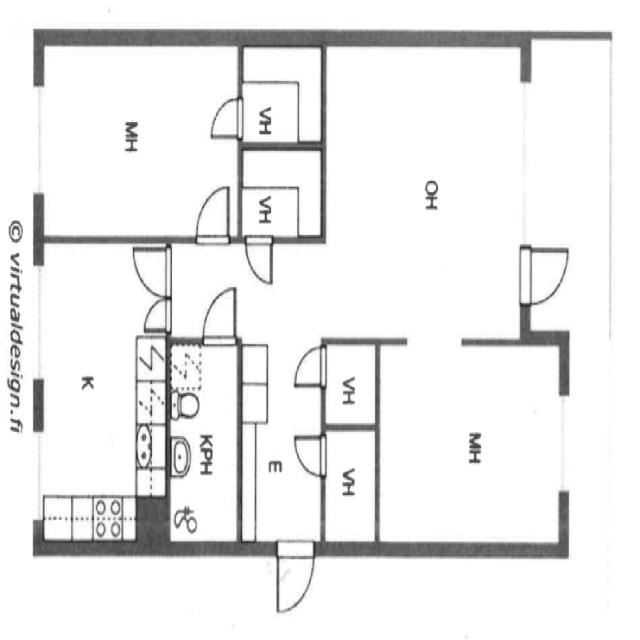door: (515, 240, 576, 314), (270, 537, 317, 622), (192, 180, 234, 254), (198, 280, 242, 350), (129, 238, 174, 302), (290, 428, 330, 487), (138, 274, 175, 336), (288, 341, 330, 394), (242, 232, 277, 292), (206, 92, 245, 142)
window: (515, 66, 540, 255), (23, 256, 49, 391), (25, 75, 51, 205), (551, 382, 577, 505), (26, 424, 48, 532)
zone: (322, 40, 527, 340), (34, 236, 170, 550), (375, 338, 567, 554), (38, 40, 240, 242), (165, 336, 239, 547), (240, 42, 324, 146), (240, 148, 324, 240), (323, 425, 377, 551), (324, 341, 376, 426)
